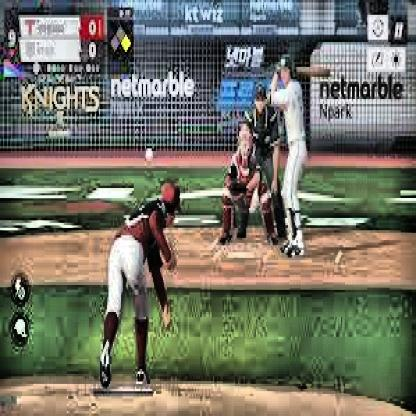baseball: (144, 146, 156, 172)
